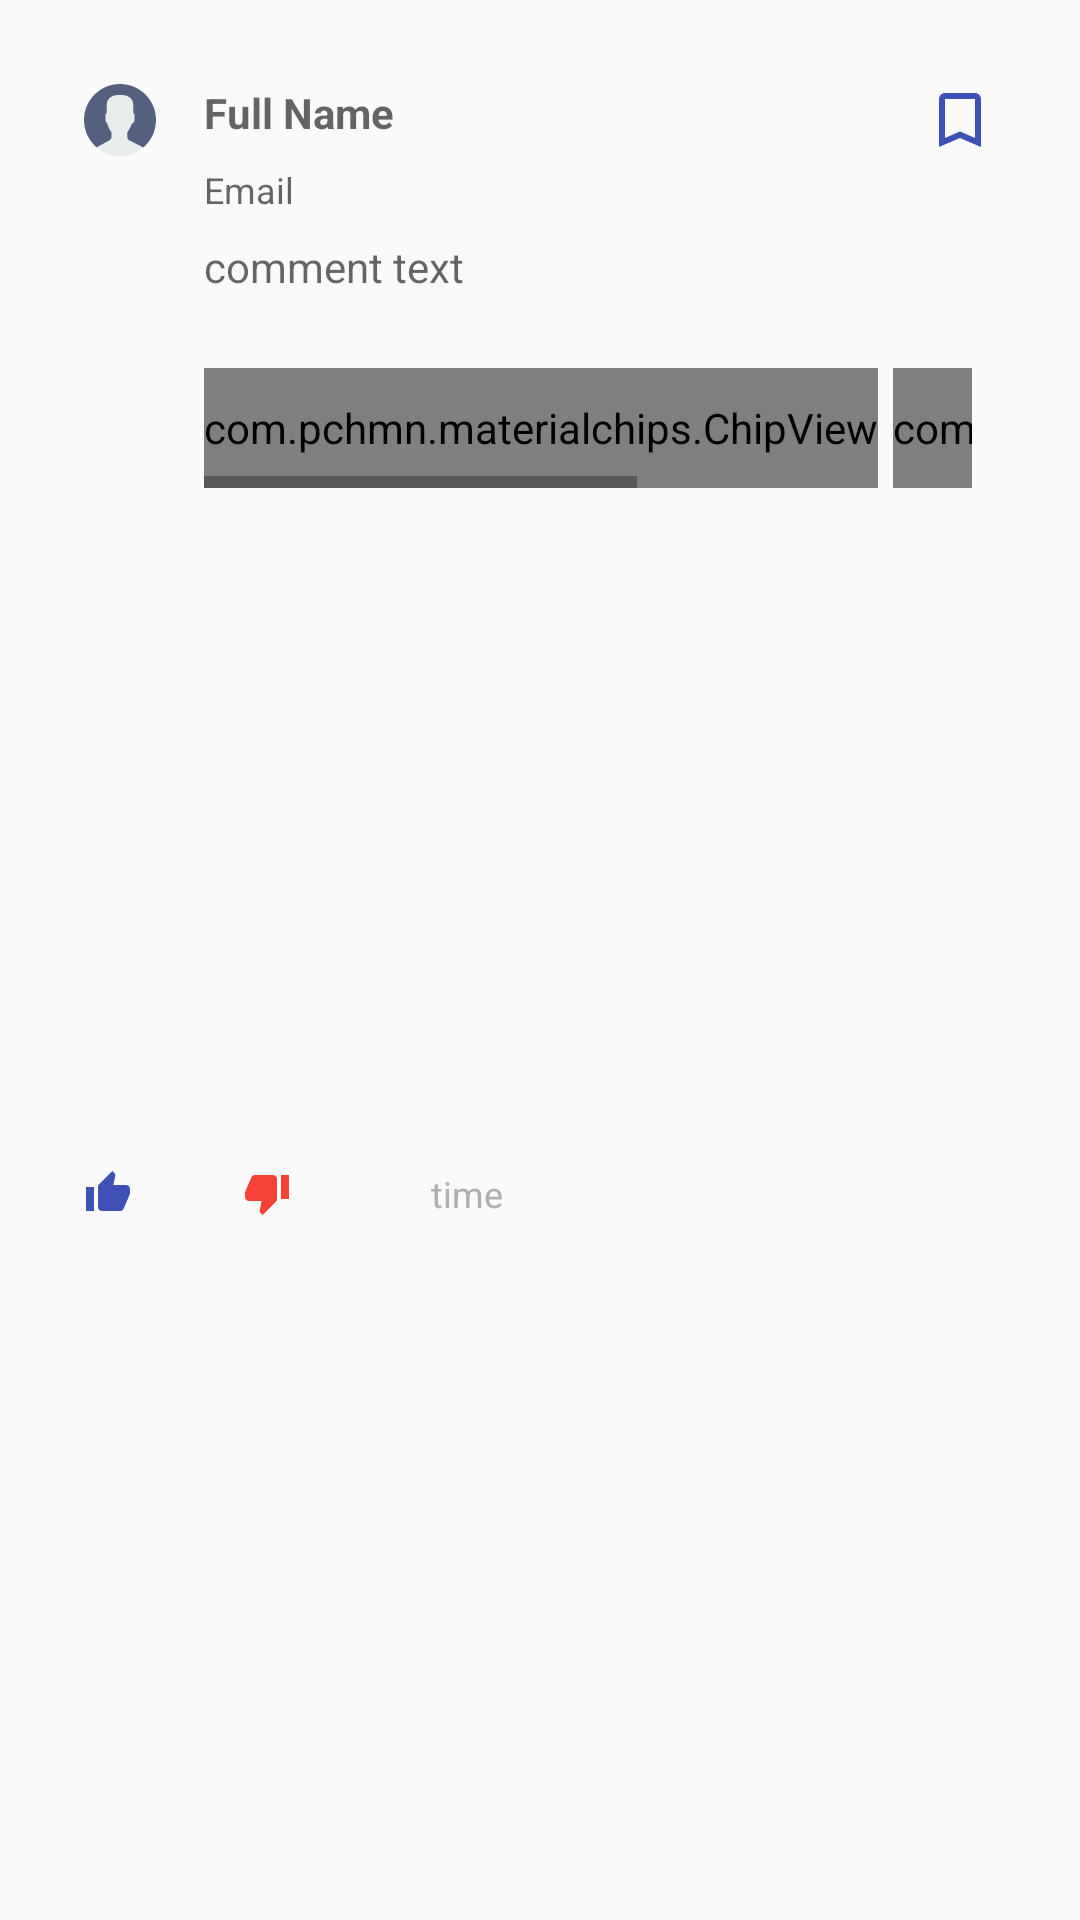

Where icons sit on this 1080×1920 app screen, as (x1, y1, x2, y2):
user: (84, 84, 156, 148)
